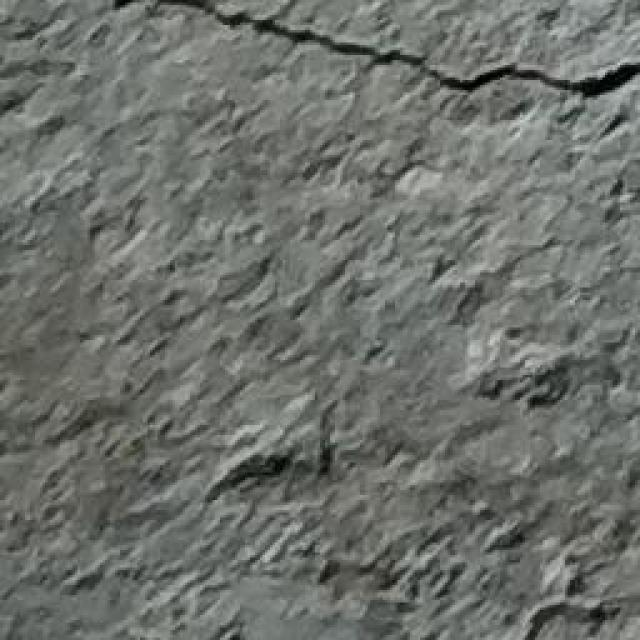Transverse: (125, 0, 635, 105)
